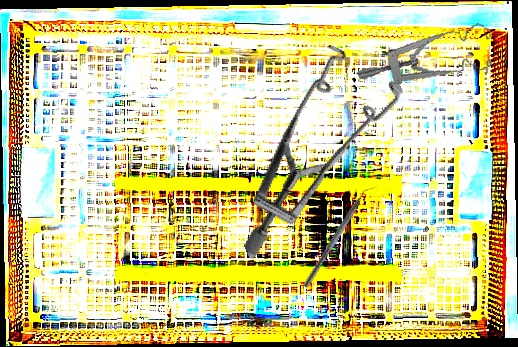Chopper: (302, 179, 379, 293)
Speculum: (183, 25, 441, 261), (355, 3, 499, 103)
